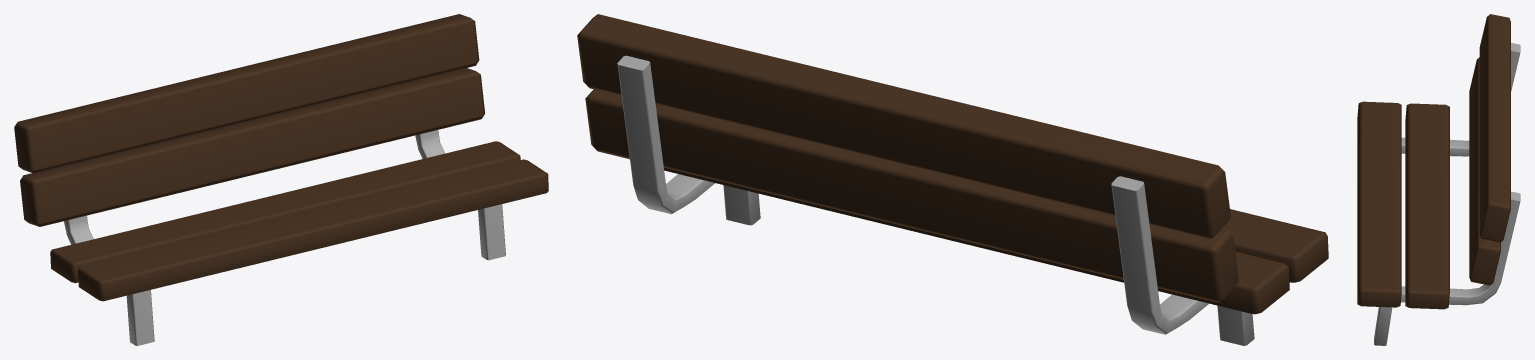
Rendered from Banco.fbx.
3 renders of one model, left to right at view 1: azimuth 30°, elevation 25°; view 2: azimuth 150°, elevation 25°; view 3: azimuth 270°, elevation 25°, orthographic. The views are drawn at different scales.
Visible parts, largest first — view 1: polySurface132; view 2: polySurface132; view 3: polySurface132.
Part boxes in pixels (x1,y1,x2,y2): polySurface132: [14, 14, 548, 345]; polySurface132: [577, 14, 1328, 345]; polySurface132: [1357, 14, 1520, 345].
Bounding box in the file's own units: 454 × 176 × 164.
